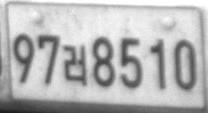0: (174, 38, 197, 91)
1: (147, 38, 171, 89)
5: (120, 37, 143, 89)
7: (37, 34, 60, 84)
8: (91, 36, 115, 87)
9: (12, 33, 35, 83)
러: (63, 44, 87, 85)
